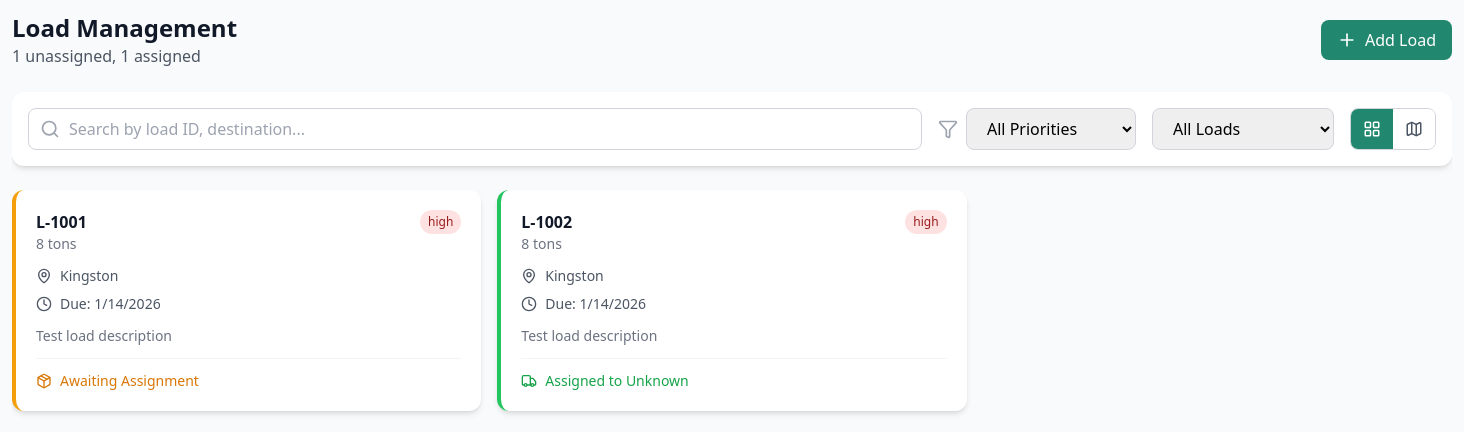
Test: LoadList › filtering › should filter by assignment status - unassigned
Select "Unassigned Only" in the 2nd dropdown at (1243, 129), box top-left (1152, 108), bottom-right (1334, 150)
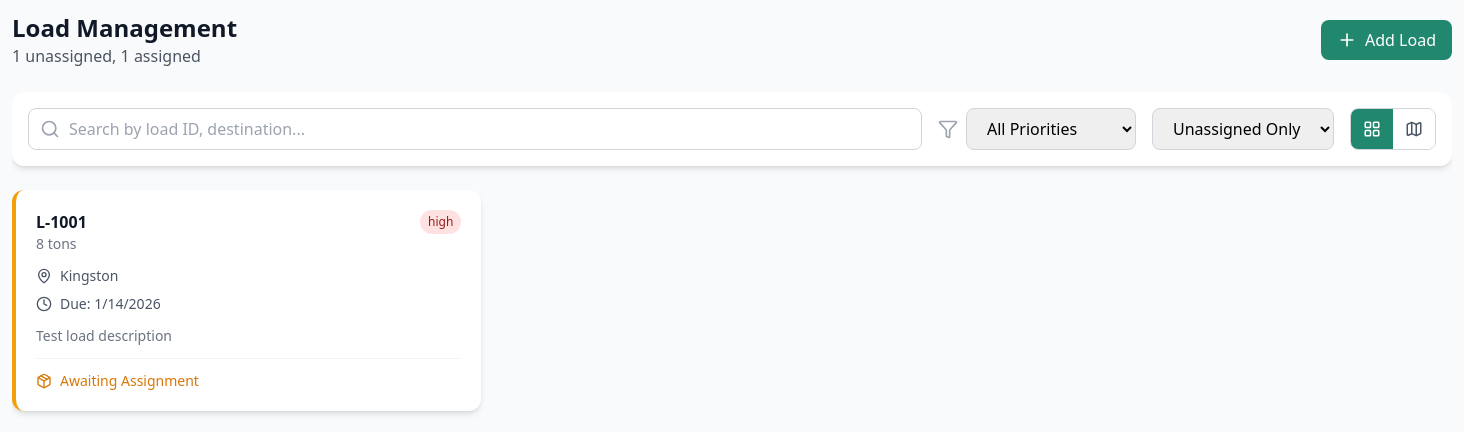
Expected: the heading "L-1001" is shown, top-left (36, 210), bottom-right (87, 234)
Expected: the heading "L-1002" is gone
